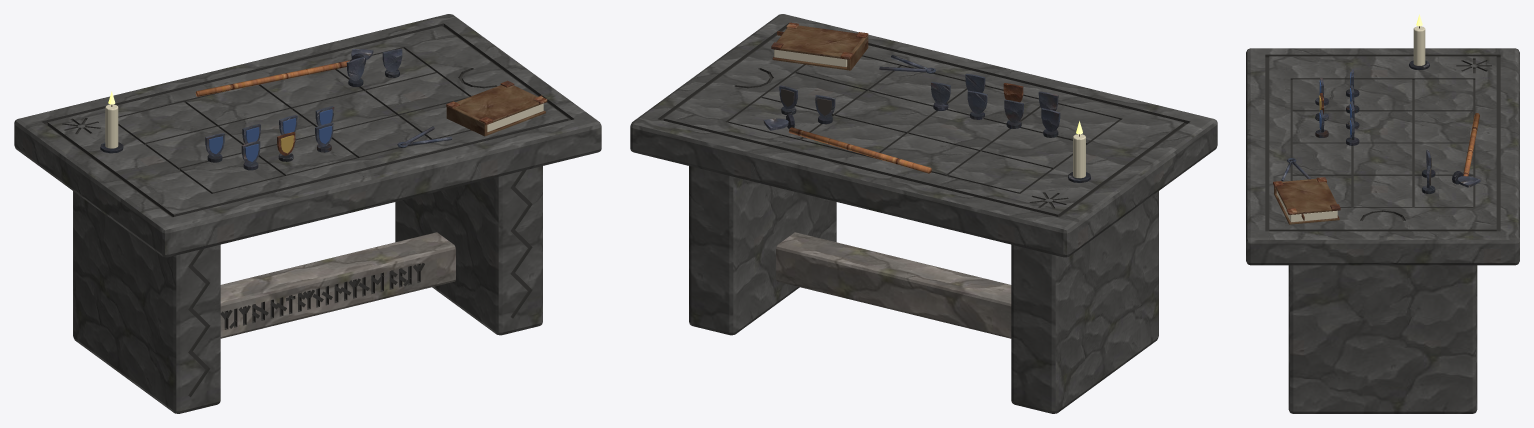
The model's file is hs_muster_table.glb.
3 views of the same model, side by side, from view 1: azimuth 30°, elevation 25°; view 2: azimuth 150°, elevation 25°; view 3: azimuth 270°, elevation 25° (orthographic). The views are drawn at different scales.
Parts seen in each view (by area): view 1: model; view 2: model; view 3: model.
Boxes of the visible parts, x1=… form: model: x1=14, y1=14, x2=601, y2=413; model: x1=630, y1=14, x2=1217, y2=413; model: x1=1246, y1=14, x2=1519, y2=413.
Size of the model in its own units: 1.5 by 0.883 by 0.9.
16 materials, 8 textured.
